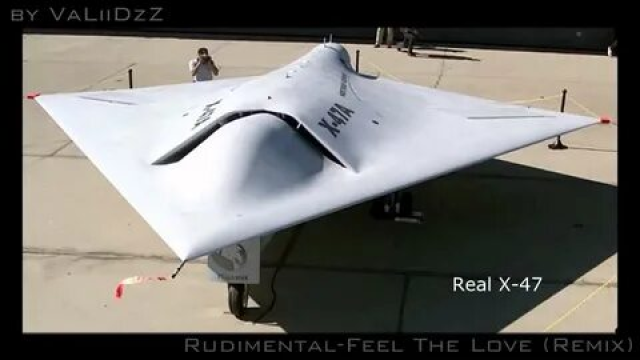military drone: (26, 32, 609, 278)
